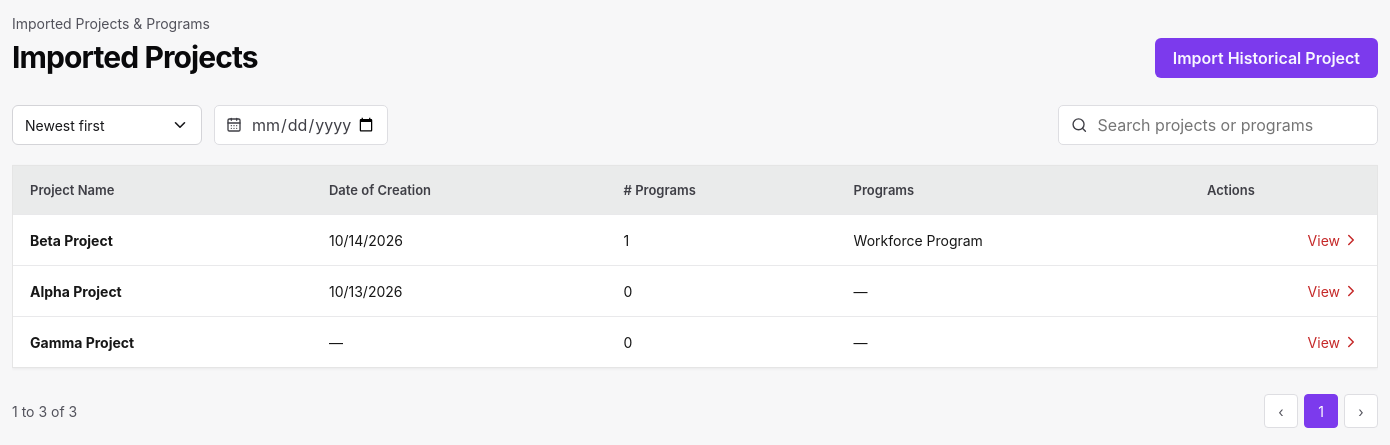
Test: matches project or program names with OR terms and preserves the date filter
Expected: the text "Alpha Project" is shown, [30,282,122,300]
Type " ALPHA | workforce | | " into the search field at coordinates (1230, 125), box [1096,114,1365,136]
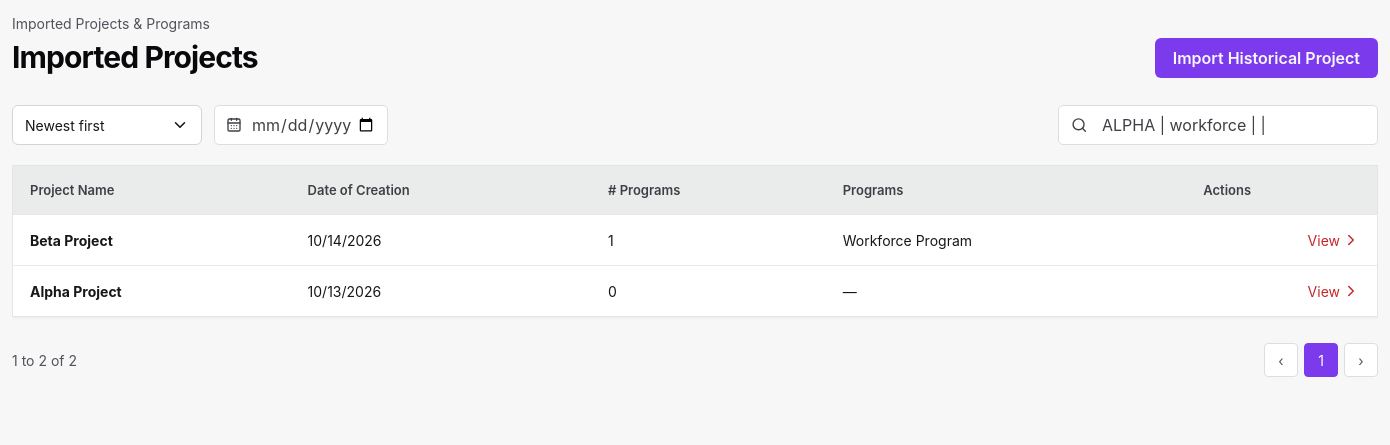
Expected: the text "Alpha Project" is shown, [30,282,122,300]
Expected: the text "Gamma Project" is gone
Type "2026-10-14" into the date field named "Date" at coordinates (313, 125), box [250,114,376,136]
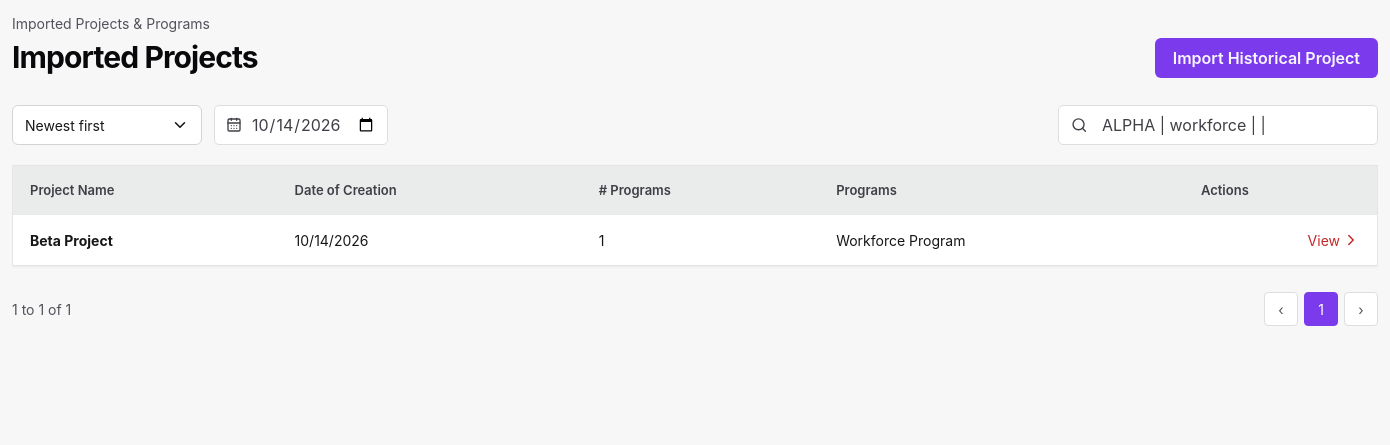
Expected: the text "Beta Project" is shown, [30,232,113,248]
Expected: the text "Alpha Project" is gone
Replace the text in the search field with " | | " at coordinates (1230, 125), box [1096,114,1365,136]
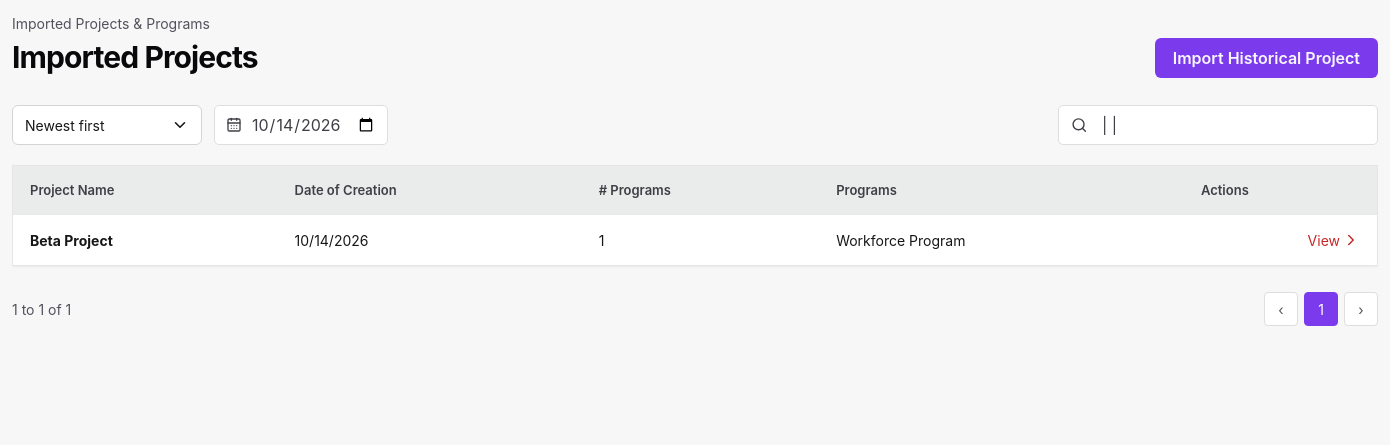
Clear the date field named "Date" at coordinates (313, 125), box [250,114,376,136]
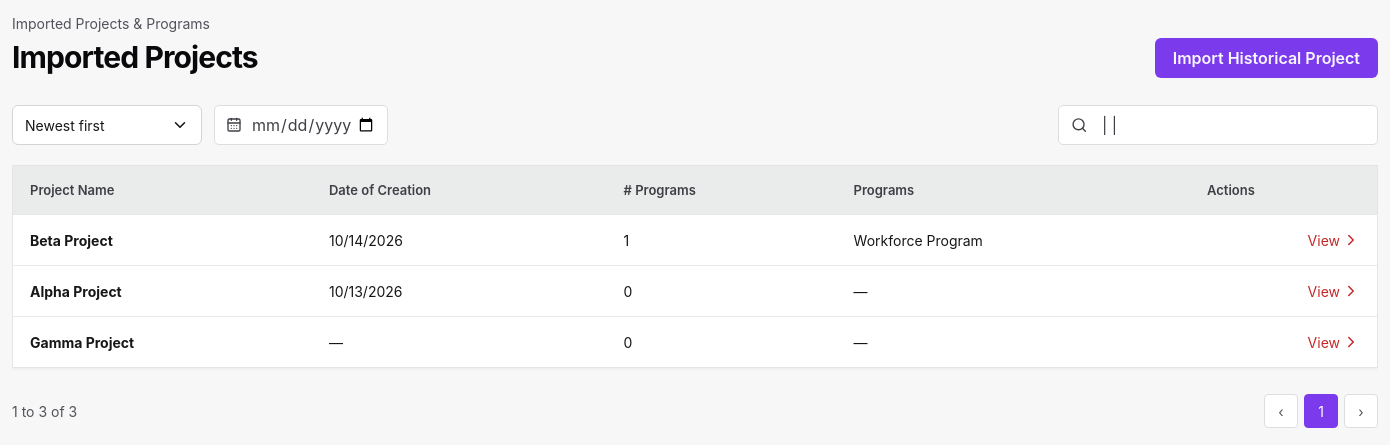
Expected: the text "Gamma Project" is shown, [30,334,134,350]
